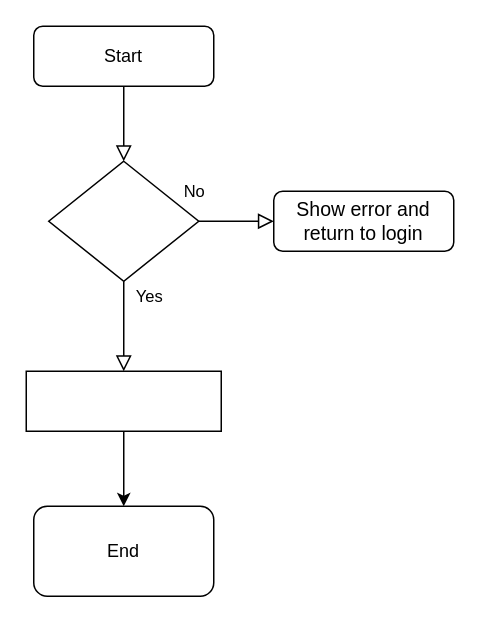
Some shapes in this 480 by 623 pixel diagram are drawn without their labels. Here are the shapes that lost their labels. From the top down, the centre of each, then its label:
the point at 123,220: User Authentication
the point at 123,400: Proceed to the main menu
